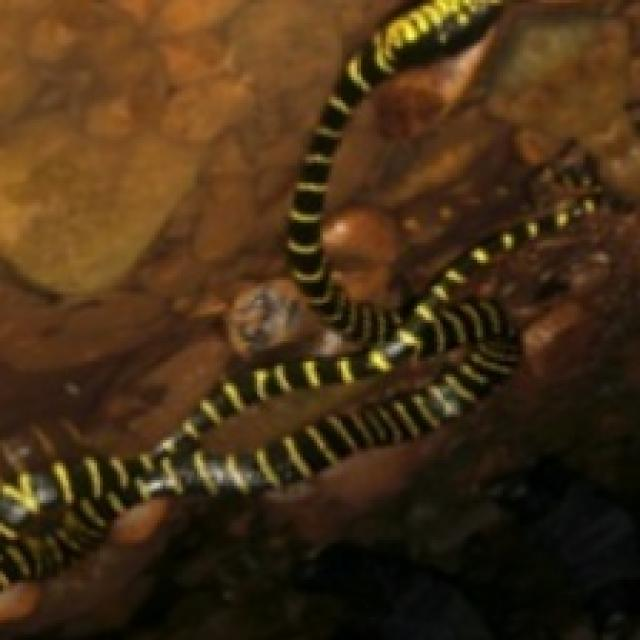mangrove cat snake: (5, 0, 600, 588)
